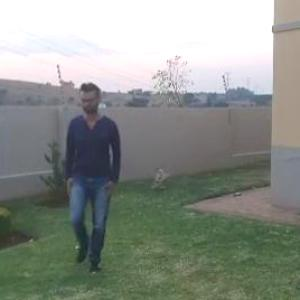follow: (76, 79, 127, 258)
